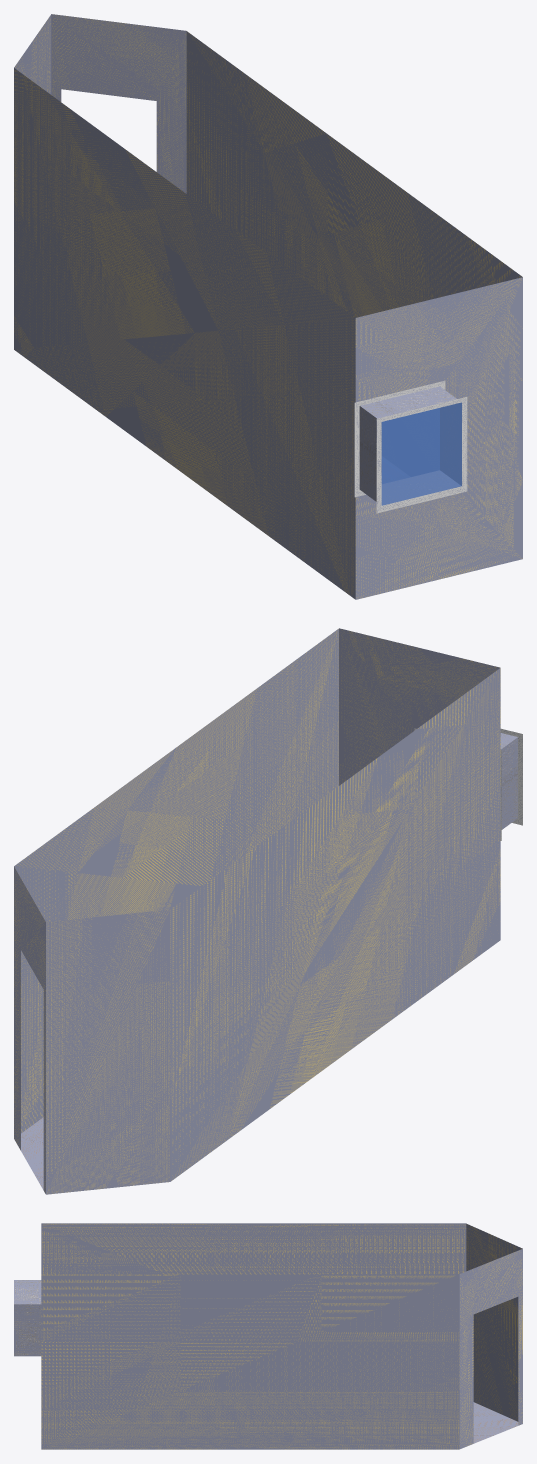
Rendered from COM055.obj.
The picture shows the model from 3 angles, top to bottom: view 1: azimuth 30°, elevation 25°; view 2: azimuth 150°, elevation 25°; view 3: azimuth 270°, elevation 25°; orthographic projection. The views are drawn at different scales.
Parts seen in each view (by area): view 1: Mesh5 COM055 Model, Mesh1 Group1 COM055 Model; view 2: Mesh5 COM055 Model, Mesh1 Group1 COM055 Model; view 3: Mesh5 COM055 Model, Mesh1 Group1 COM055 Model.
Boxes of the visible parts, x1=… form: Mesh5 COM055 Model: x1=14, y1=14, x2=522, y2=599; Mesh1 Group1 COM055 Model: x1=354, y1=380, x2=467, y2=513; Mesh5 COM055 Model: x1=14, y1=628, x2=500, y2=1194; Mesh1 Group1 COM055 Model: x1=414, y1=728, x2=522, y2=840; Mesh5 COM055 Model: x1=41, y1=1223, x2=522, y2=1449; Mesh1 Group1 COM055 Model: x1=14, y1=1280, x2=41, y2=1356.
Size of the model in its own units: 1.88 by 3 by 7.9.
Materials: 6 (2 with a texture image).
